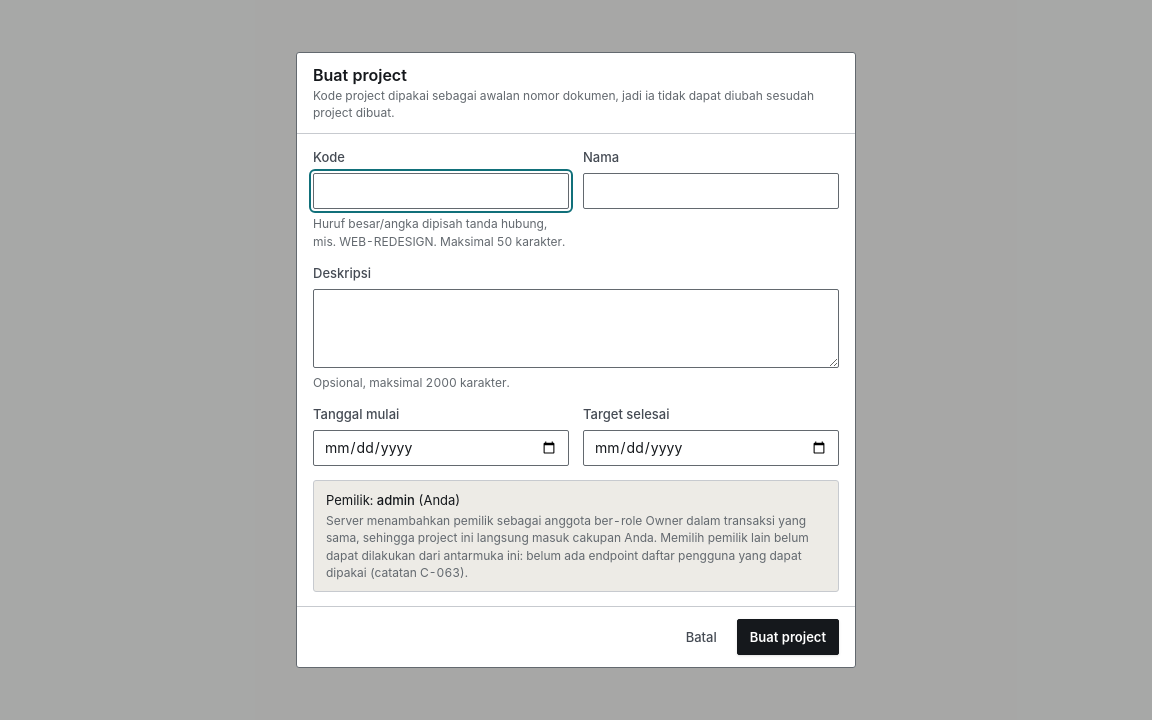
Scenario: dialog buat project › meletakkan galat 422 pada field yang disebut server
Type "WEB" into the field labelled "Kode" at coordinates (441, 191), box [313,173,569,209]
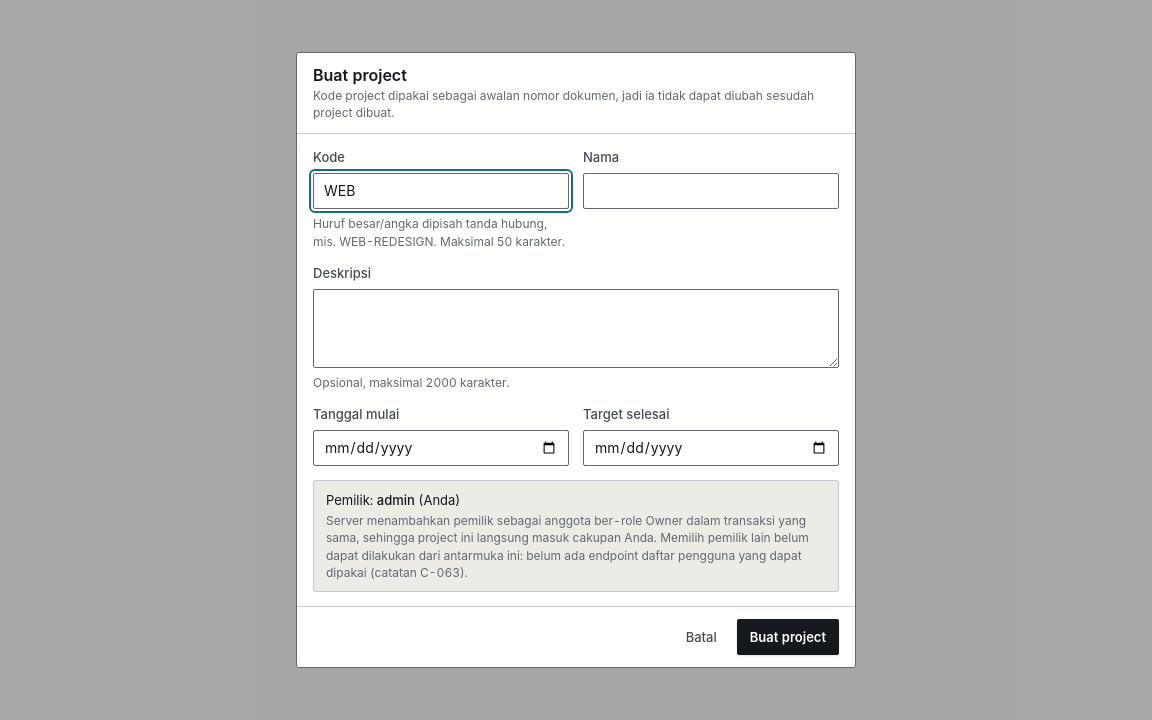
Type "Website Redesign" into the field labelled "Nama" at coordinates (711, 191), box [583,173,839,209]
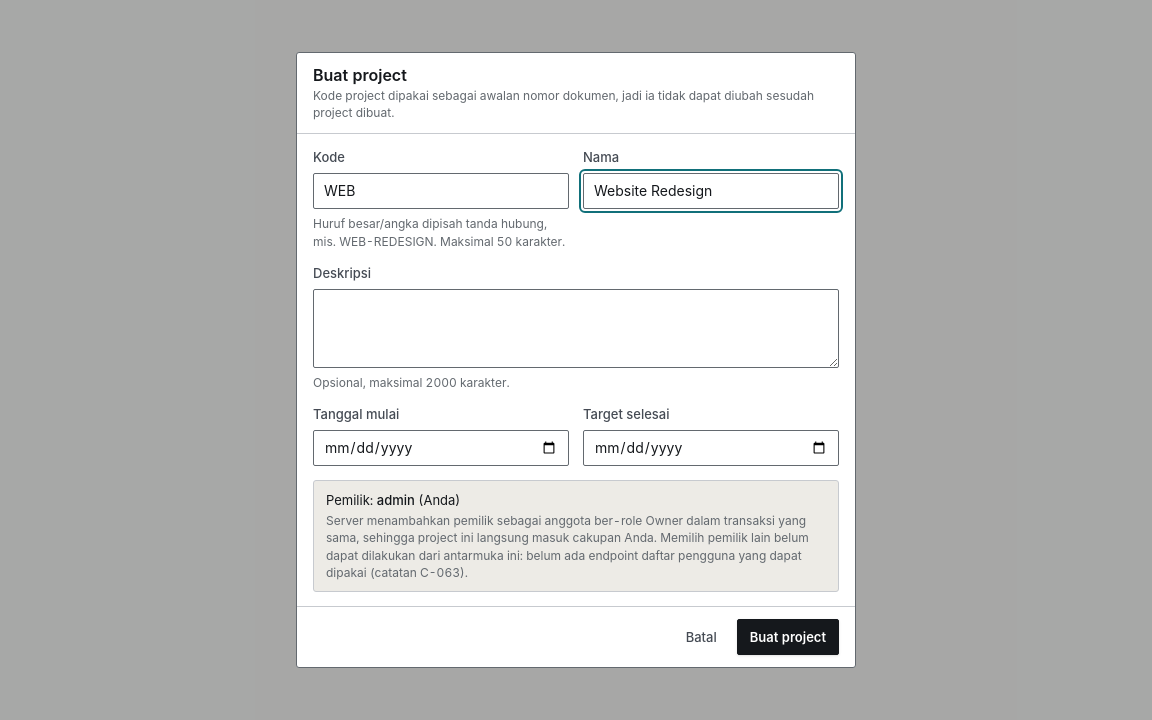
Click the button "Buat project" at coordinates (788, 637), box [737,619,839,655]
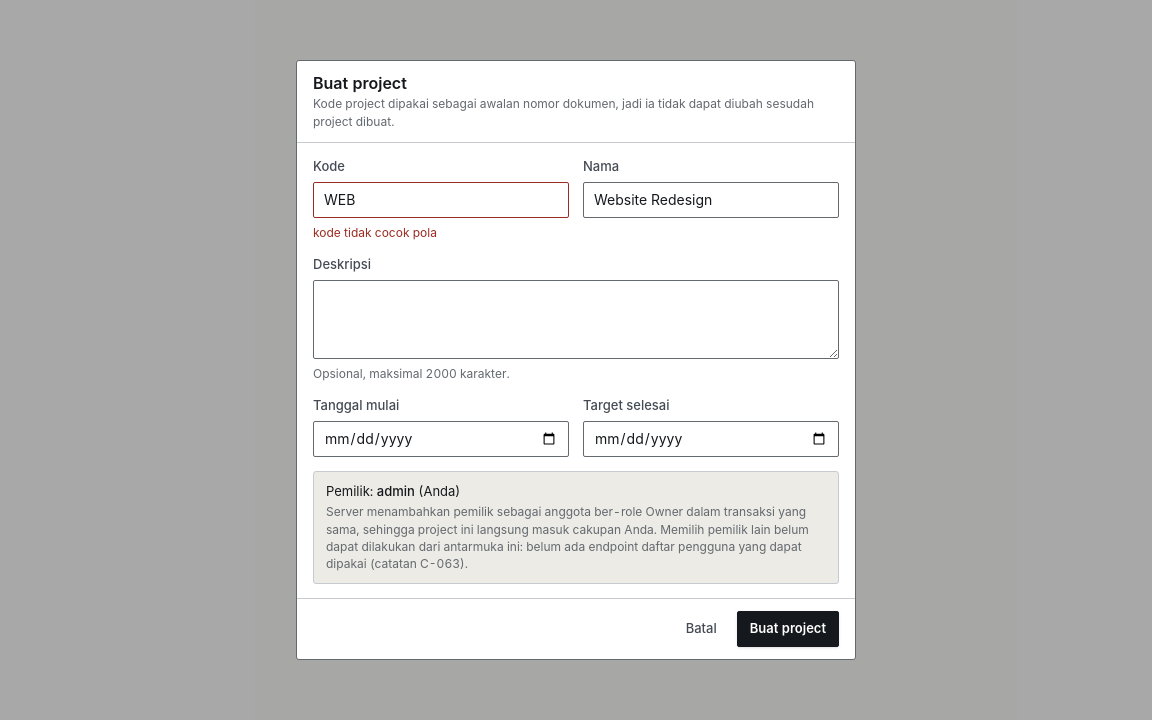
expect the text "kode tidak cocok pola" is shown: met, box [313,225,437,240]
